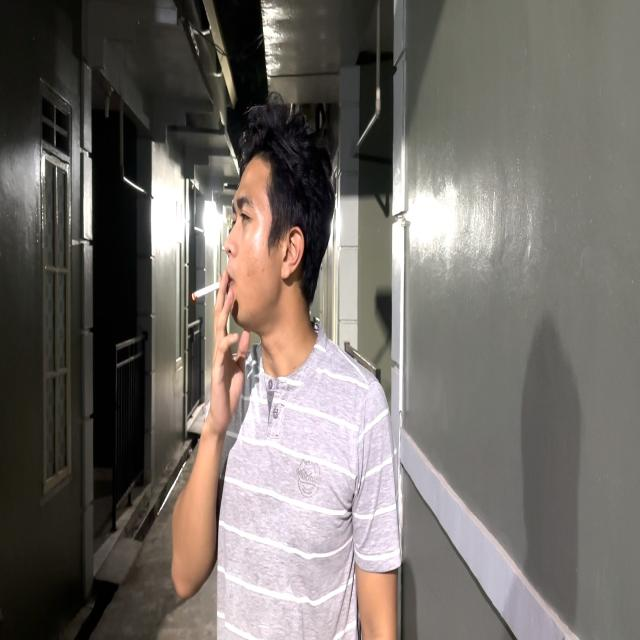cigarette: (192, 280, 222, 301)
smoking: (167, 89, 337, 600)
